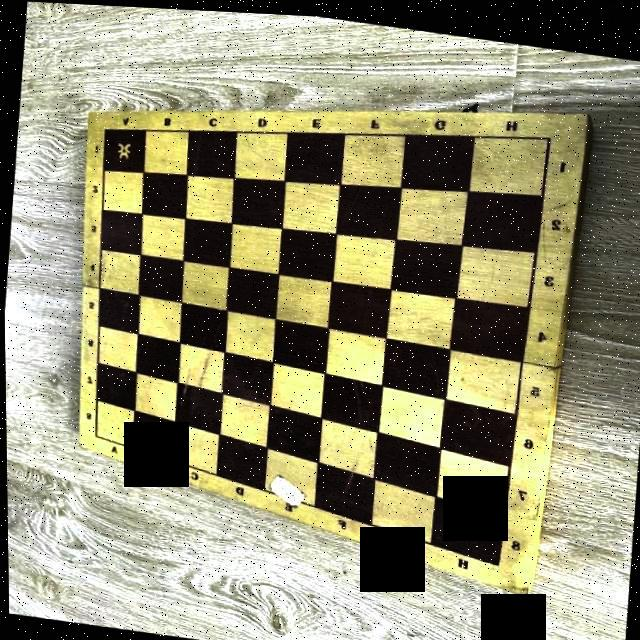chess-table-corners: (486, 549, 506, 568), (85, 424, 104, 442), (539, 125, 556, 138), (98, 123, 111, 132)
